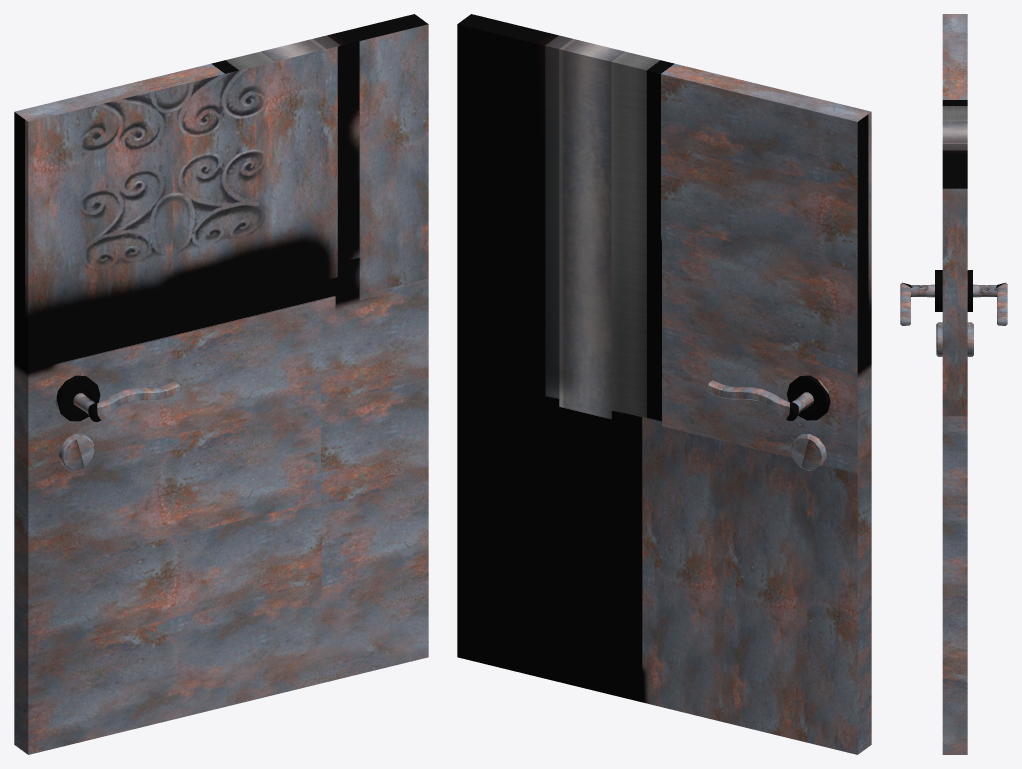
The model's file is door.fbx.
3 renders of one model, left to right at view 1: azimuth 30°, elevation 25°; view 2: azimuth 150°, elevation 25°; view 3: azimuth 270°, elevation 25°, orthographic. The views are drawn at different scales.
Visible parts, largest first — view 1: pCube3; view 2: pCube3; view 3: pCube3.
Boxes of the visible parts, bbox=[...] form: pCube3: bbox=[14, 14, 428, 754]; pCube3: bbox=[457, 14, 871, 754]; pCube3: bbox=[900, 14, 1007, 754].
Bounding box in the file's own units: 148 × 224 × 38.42.
